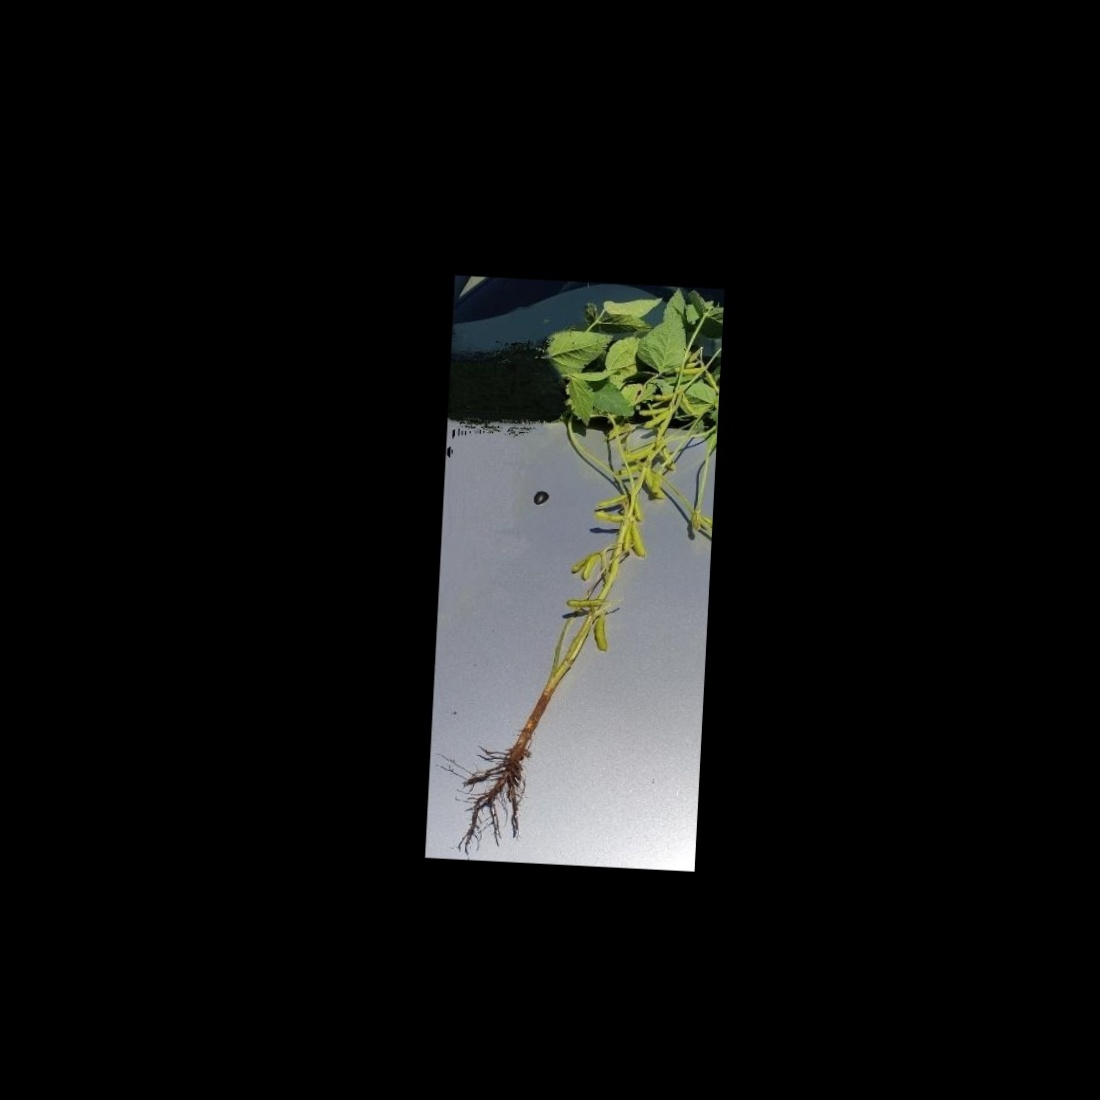pod: (577, 549, 604, 584), (628, 521, 650, 563), (590, 608, 610, 654), (591, 492, 636, 510), (639, 408, 669, 434), (634, 403, 672, 419), (590, 510, 633, 524), (561, 597, 605, 610)
soy: (455, 306, 714, 825)
